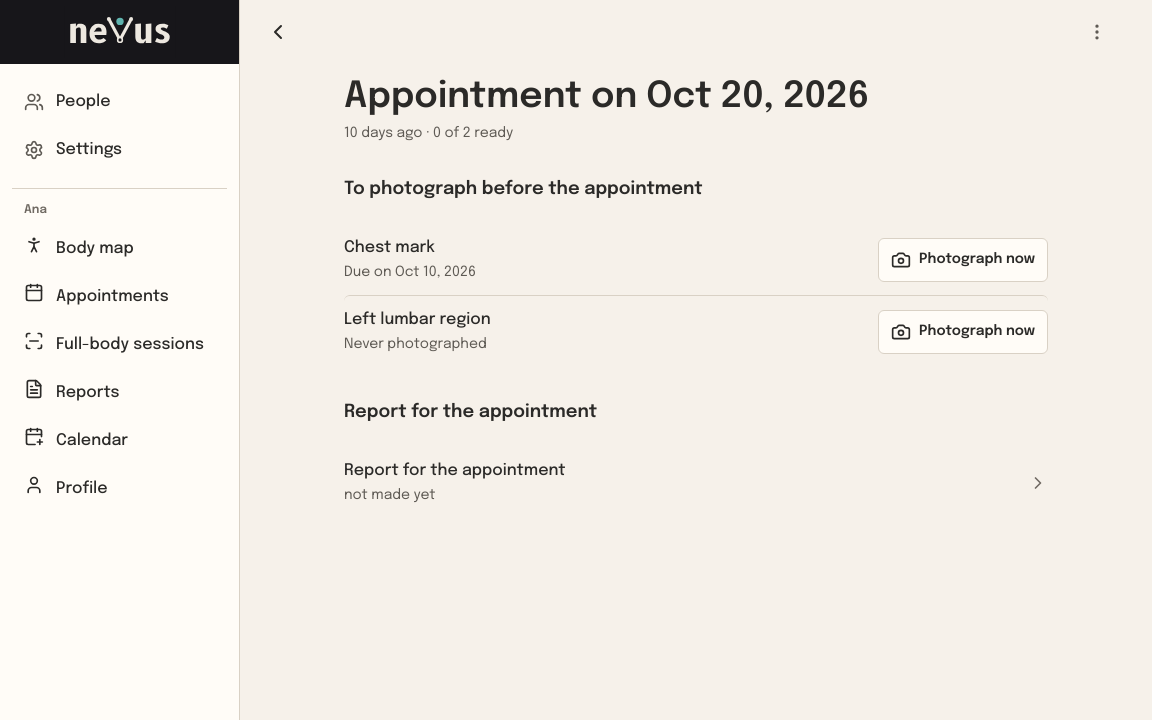
it: preparing an appointment › makes the appointment's report and offers it
The width and height of the screenshot is (1152, 720).
Click the button "Report for the appointment not made yet" at (455, 471), box left=344, top=447, right=1016, bottom=518
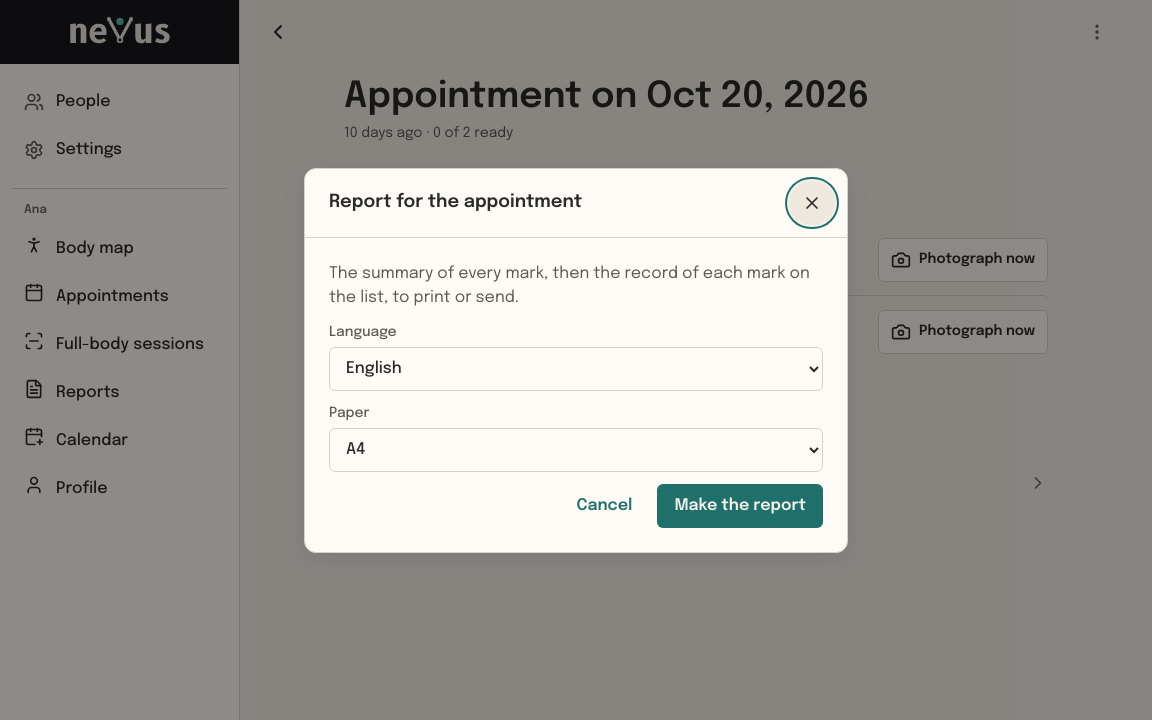
Select "Español" in the dropdown labelled "Language" at (576, 368), box left=329, top=346, right=823, bottom=390
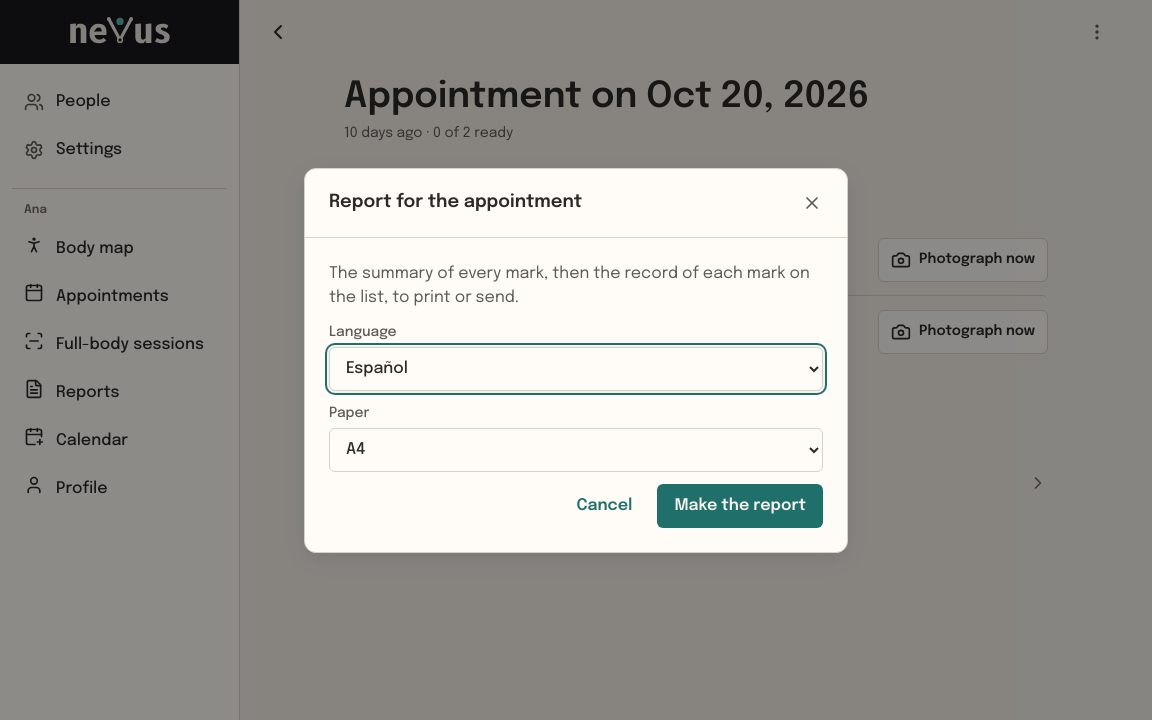
Click the button "Make the report" at (740, 506), box left=657, top=484, right=823, bottom=528
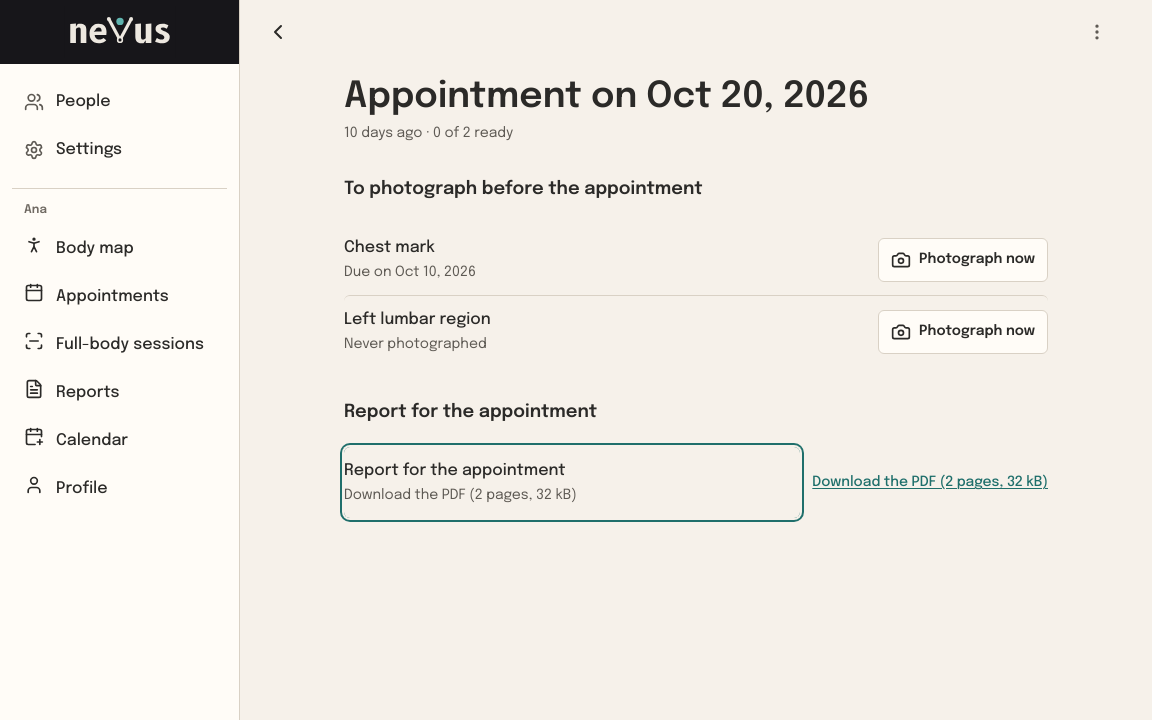
Now the link "Download the PDF (2 pages, 32 kB)" is shown, box left=812, top=475, right=1048, bottom=489
